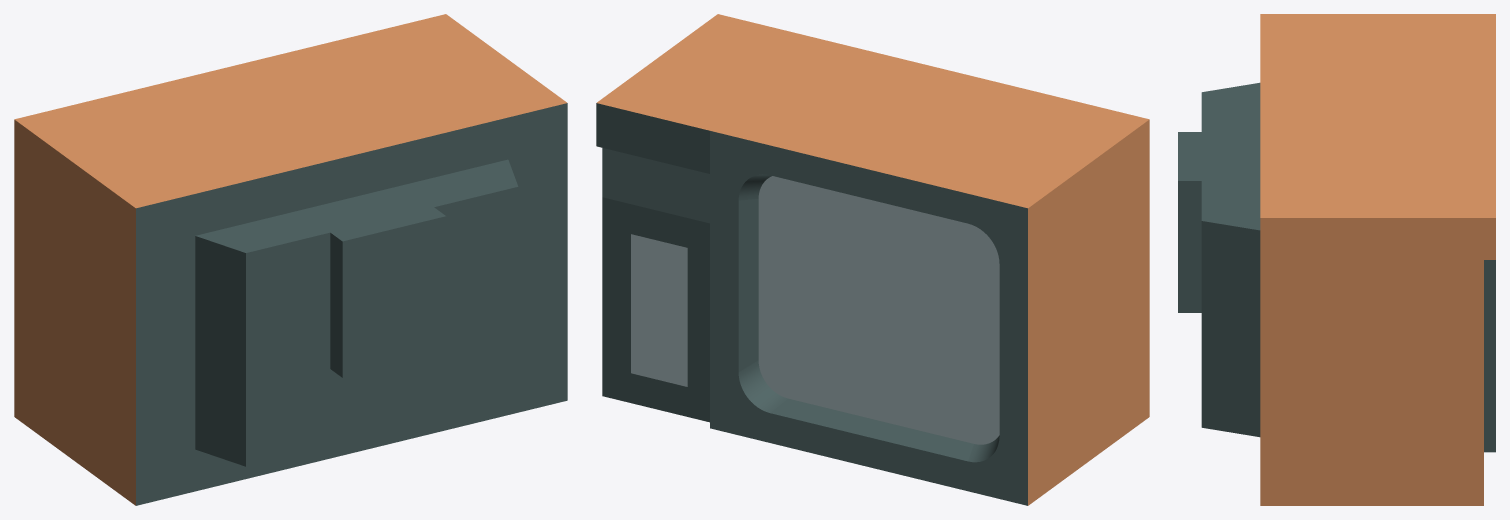
File: televisionVintage.dae
3 renders of one model, left to right at view 1: azimuth 30°, elevation 25°; view 2: azimuth 150°, elevation 25°; view 3: azimuth 270°, elevation 25°, orthographic. The views are drawn at different scales.
Visible parts, largest first — view 1: televisionVintage; view 2: televisionVintage; view 3: televisionVintage.
Part boxes in pixels (bbox=[...]): televisionVintage: bbox=[14, 14, 567, 505]; televisionVintage: bbox=[596, 14, 1149, 505]; televisionVintage: bbox=[1178, 14, 1495, 505].
Size of the model in its own units: 0.41 by 0.27 by 0.27.
